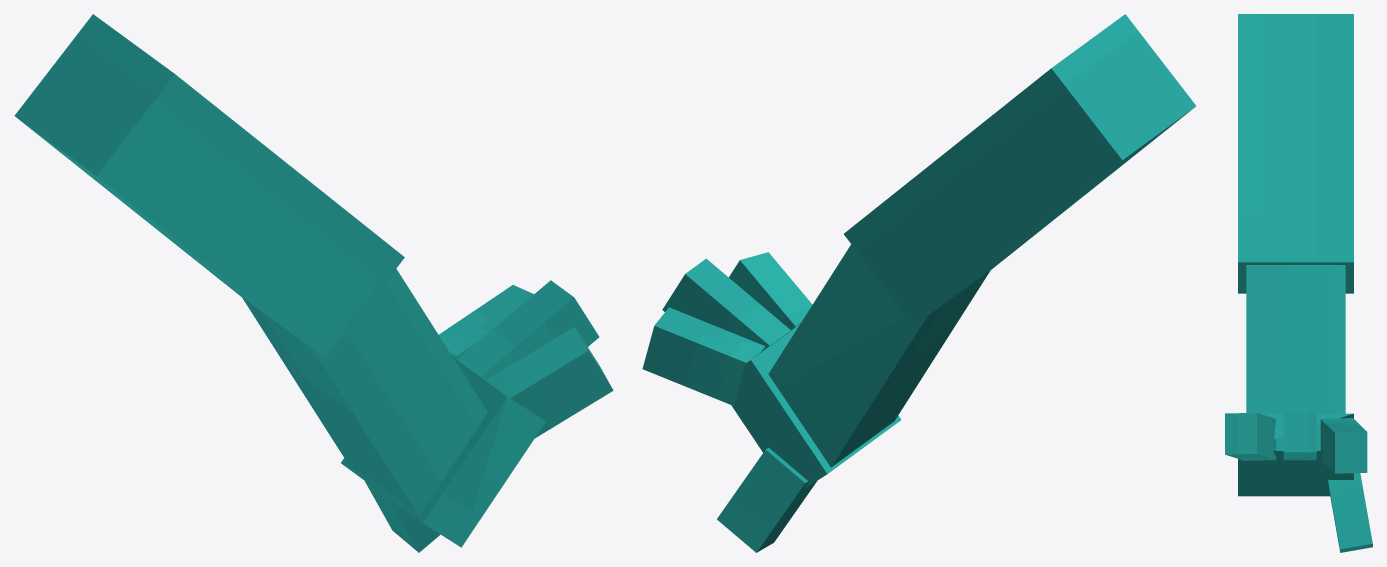
Rendered from perry_R_arm.obj.
3 views of the same model, side by side, from view 1: azimuth 30°, elevation 25°; view 2: azimuth 150°, elevation 25°; view 3: azimuth 270°, elevation 25° (orthographic). The views are drawn at different scales.
Parts seen in each view (by area): view 1: be8fa5a7_ddb4_ddc5_281c_8d54864ff6e9_Mesh_15, c91da1ec_2c06_9470_a5c7_efdb0287f255_Mesh_16, 569e6e43_41aa_f001_f3eb_1c37fa5ce736_Mesh_17, 86440e1f_ca91_e80a_237f_703b98120f46_Mesh_18, 82da5134_894a_94f7_8abf_1743ee2d47fa_Mesh_19, 887330a9_1ea5_7988_70f7_d69deedfe3ef_Mesh_20, 4b95bae7_6b90_49cf_7a60_ad454cc8972f_Mesh_21; view 2: be8fa5a7_ddb4_ddc5_281c_8d54864ff6e9_Mesh_15, c91da1ec_2c06_9470_a5c7_efdb0287f255_Mesh_16, 887330a9_1ea5_7988_70f7_d69deedfe3ef_Mesh_20, 569e6e43_41aa_f001_f3eb_1c37fa5ce736_Mesh_17, 4b95bae7_6b90_49cf_7a60_ad454cc8972f_Mesh_21, 82da5134_894a_94f7_8abf_1743ee2d47fa_Mesh_19, 86440e1f_ca91_e80a_237f_703b98120f46_Mesh_18; view 3: be8fa5a7_ddb4_ddc5_281c_8d54864ff6e9_Mesh_15, c91da1ec_2c06_9470_a5c7_efdb0287f255_Mesh_16, 569e6e43_41aa_f001_f3eb_1c37fa5ce736_Mesh_17, 4b95bae7_6b90_49cf_7a60_ad454cc8972f_Mesh_21, 887330a9_1ea5_7988_70f7_d69deedfe3ef_Mesh_20, 86440e1f_ca91_e80a_237f_703b98120f46_Mesh_18, 82da5134_894a_94f7_8abf_1743ee2d47fa_Mesh_19.
Part boxes in pixels (x1,y1,x2,y2): be8fa5a7_ddb4_ddc5_281c_8d54864ff6e9_Mesh_15: (14, 14, 404, 358); c91da1ec_2c06_9470_a5c7_efdb0287f255_Mesh_16: (242, 268, 487, 515); 569e6e43_41aa_f001_f3eb_1c37fa5ce736_Mesh_17: (341, 353, 545, 547); 86440e1f_ca91_e80a_237f_703b98120f46_Mesh_18: (486, 326, 613, 438); 82da5134_894a_94f7_8abf_1743ee2d47fa_Mesh_19: (457, 280, 599, 380); 887330a9_1ea5_7988_70f7_d69deedfe3ef_Mesh_20: (439, 285, 533, 358); 4b95bae7_6b90_49cf_7a60_ad454cc8972f_Mesh_21: (365, 481, 440, 552); be8fa5a7_ddb4_ddc5_281c_8d54864ff6e9_Mesh_15: (844, 14, 1196, 325); c91da1ec_2c06_9470_a5c7_efdb0287f255_Mesh_16: (768, 244, 990, 467); 887330a9_1ea5_7988_70f7_d69deedfe3ef_Mesh_20: (642, 307, 765, 405); 569e6e43_41aa_f001_f3eb_1c37fa5ce736_Mesh_17: (731, 323, 901, 488); 4b95bae7_6b90_49cf_7a60_ad454cc8972f_Mesh_21: (717, 448, 816, 552); 82da5134_894a_94f7_8abf_1743ee2d47fa_Mesh_19: (662, 258, 790, 348); 86440e1f_ca91_e80a_237f_703b98120f46_Mesh_18: (729, 252, 812, 329); be8fa5a7_ddb4_ddc5_281c_8d54864ff6e9_Mesh_15: (1238, 14, 1353, 293); c91da1ec_2c06_9470_a5c7_efdb0287f255_Mesh_16: (1246, 265, 1345, 450); 569e6e43_41aa_f001_f3eb_1c37fa5ce736_Mesh_17: (1238, 413, 1353, 496); 4b95bae7_6b90_49cf_7a60_ad454cc8972f_Mesh_21: (1328, 473, 1372, 552); 887330a9_1ea5_7988_70f7_d69deedfe3ef_Mesh_20: (1320, 418, 1367, 473); 86440e1f_ca91_e80a_237f_703b98120f46_Mesh_18: (1225, 412, 1276, 460); 82da5134_894a_94f7_8abf_1743ee2d47fa_Mesh_19: (1283, 411, 1316, 460).
Size of the model in its own units: 10.56 by 11.48 by 3.57.
Materials: 1 (1 with a texture image).
